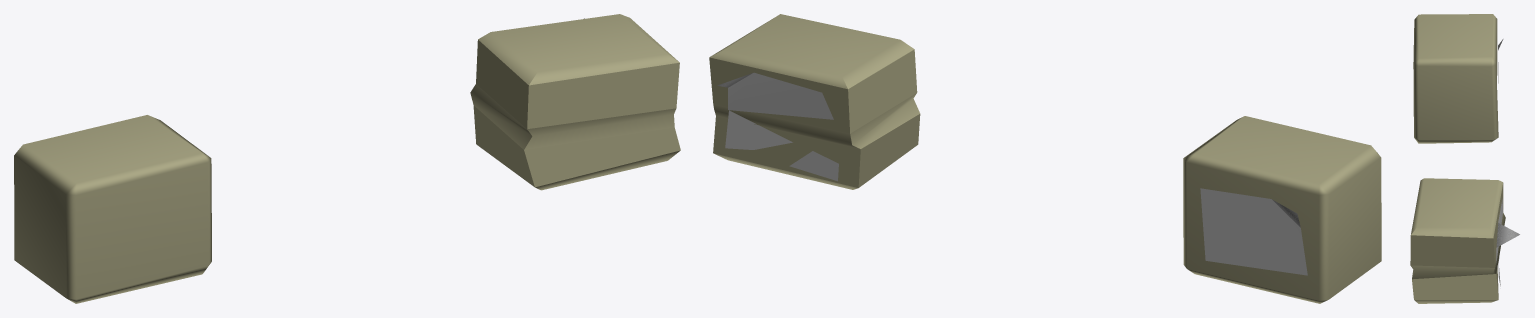
The model's file is CardboardBoxes.fbx.
3 renders of one model, left to right at view 1: azimuth 30°, elevation 25°; view 2: azimuth 150°, elevation 25°; view 3: azimuth 270°, elevation 25°, orthographic. The views are drawn at different scales.
Visible parts, largest first — view 1: Cardboard_Box, Cardboard_Box_Damaged; view 2: Cardboard_Box, Cardboard_Box_Damaged; view 3: Cardboard_Box_Damaged, Cardboard_Box.
Boxes of the visible parts, x1=… form: Cardboard_Box: x1=14, y1=115, x2=211, y2=303; Cardboard_Box_Damaged: x1=470, y1=14, x2=680, y2=190; Cardboard_Box: x1=1183, y1=116, x2=1381, y2=303; Cardboard_Box_Damaged: x1=709, y1=14, x2=920, y2=189; Cardboard_Box_Damaged: x1=1410, y1=178, x2=1519, y2=303; Cardboard_Box: x1=1413, y1=14, x2=1503, y2=143.
Size of the model in its own units: 133 by 25.09 by 29.05.
Materials: 1 (1 with a texture image).
